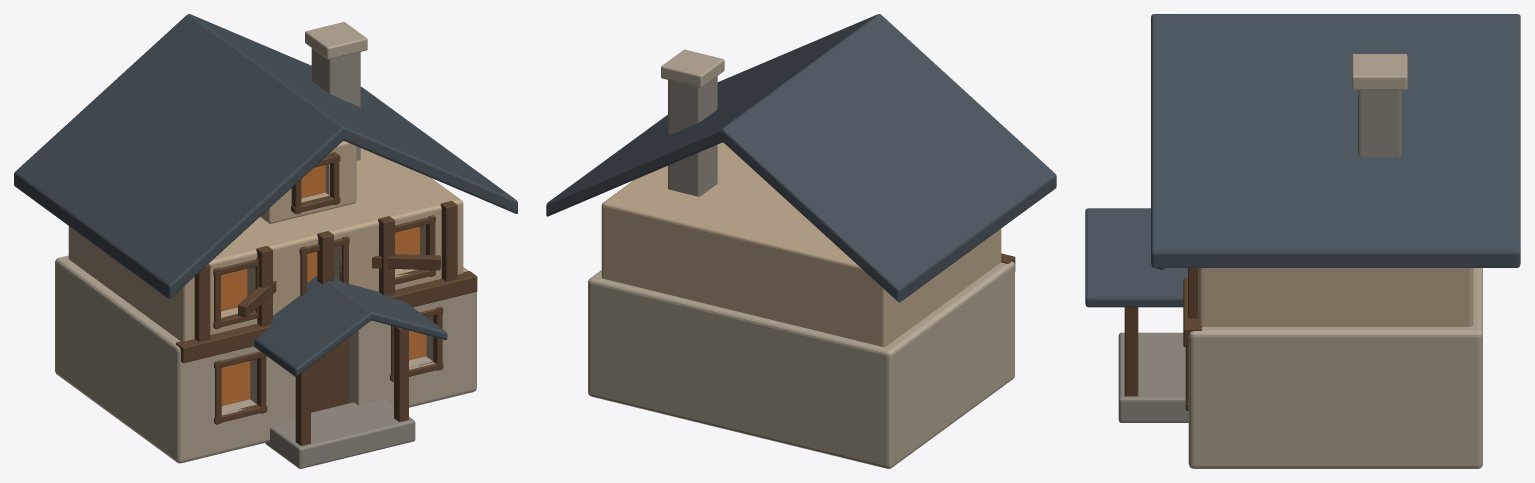
File: Valoria_CivicHouse_v1.glb
The picture shows the model from 3 angles, left to right: view 1: azimuth 30°, elevation 25°; view 2: azimuth 150°, elevation 25°; view 3: azimuth 270°, elevation 25°; orthographic projection. The views are drawn at different scales.
Visible parts, largest first — view 1: civic slate roof, civic stone ground floor, civic upper floor, porch roof, stone entry stoop, projecting sill, dormer body, door leaf.001, chimney, chimney cap, porch post.001, upper post.004 (+12 smaller); view 2: civic slate roof, civic stone ground floor, civic upper floor, chimney, chimney cap; view 3: civic slate roof, civic stone ground floor, civic upper floor, porch roof, stone entry stoop, chimney, chimney cap, porch post.001, upper post.004, projecting sill.
Boxes of the visible parts, x1=… form: civic slate roof: x1=14, y1=14, x2=517, y2=298; civic stone ground floor: x1=55, y1=255, x2=476, y2=463; civic upper floor: x1=68, y1=148, x2=463, y2=340; porch roof: x1=254, y1=275, x2=447, y2=376; stone entry stoop: x1=265, y1=399, x2=415, y2=468; projecting sill: x1=176, y1=271, x2=477, y2=363; dormer body: x1=260, y1=141, x2=356, y2=223; door leaf.001: x1=311, y1=338, x2=348, y2=412; chimney: x1=311, y1=48, x2=360, y2=160; chimney cap: x1=305, y1=22, x2=367, y2=59; porch post.001: x1=394, y1=326, x2=408, y2=421; upper post.004: x1=440, y1=201, x2=457, y2=281; civic slate roof: x1=546, y1=14, x2=1056, y2=302; civic stone ground floor: x1=588, y1=261, x2=1014, y2=468; civic upper floor: x1=601, y1=142, x2=1001, y2=346; chimney: x1=668, y1=76, x2=717, y2=196; chimney cap: x1=661, y1=49, x2=724, y2=87; civic slate roof: x1=1151, y1=14, x2=1520, y2=267; civic stone ground floor: x1=1188, y1=268, x2=1482, y2=468; civic upper floor: x1=1198, y1=268, x2=1473, y2=326; porch roof: x1=1085, y1=208, x2=1187, y2=307; stone entry stoop: x1=1118, y1=332, x2=1188, y2=422; chimney: x1=1358, y1=90, x2=1401, y2=156; chimney cap: x1=1352, y1=54, x2=1407, y2=90; porch post.001: x1=1124, y1=307, x2=1138, y2=396; upper post.004: x1=1188, y1=268, x2=1198, y2=318; projecting sill: x1=1183, y1=277, x2=1201, y2=346.
Bounding box in the file's own units: 4.13 × 3.6 × 3.77.
